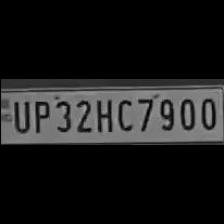0: (176, 95, 196, 131), (197, 94, 217, 130)
2: (74, 96, 92, 134)
3: (52, 97, 72, 133)
7: (134, 94, 154, 134)
9: (156, 94, 174, 132)
C: (114, 96, 134, 132)
H: (93, 94, 113, 134)
P: (31, 96, 51, 134)
U: (10, 97, 30, 132)
